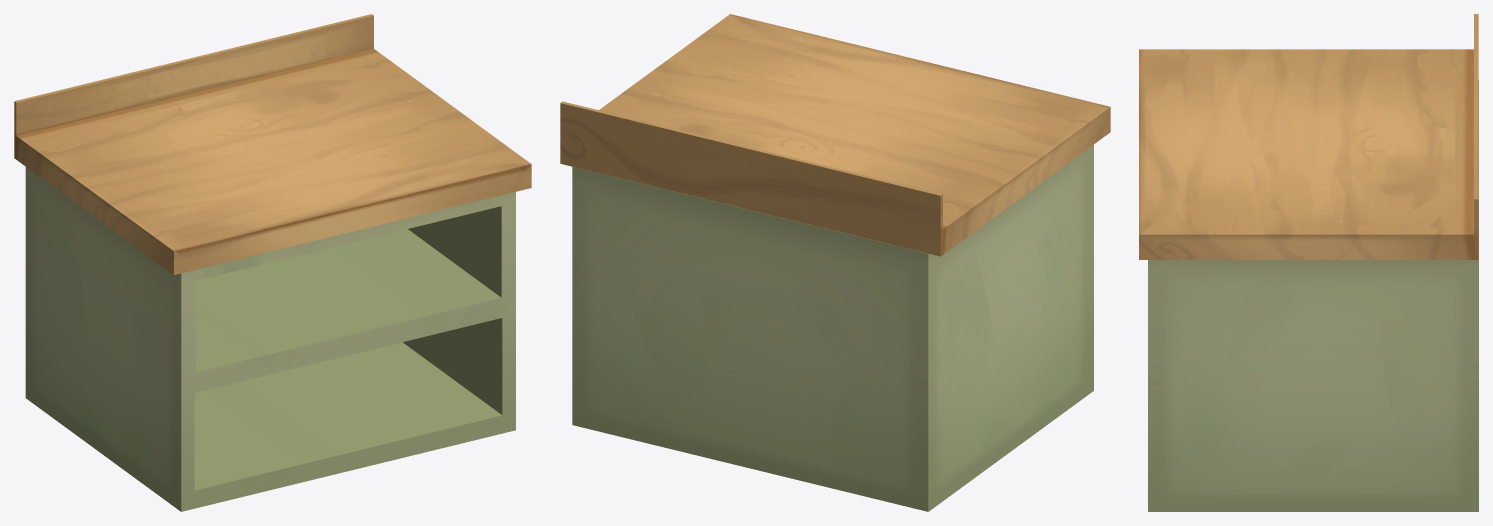
File: CounterDouble.fbx
3 renders of one model, left to right at view 1: azimuth 30°, elevation 25°; view 2: azimuth 150°, elevation 25°; view 3: azimuth 270°, elevation 25°, orthographic. The views are drawn at different scales.
Visible parts, largest first — view 1: CounterDouble; view 2: CounterDouble; view 3: CounterDouble.
Boxes of the visible parts, left/top/right/bottom form: CounterDouble: left=14, top=14, right=531, bottom=511; CounterDouble: left=560, top=14, right=1110, bottom=511; CounterDouble: left=1139, top=14, right=1478, bottom=511.
Size of the model in its own units: 113 by 90.54 by 87.58.
